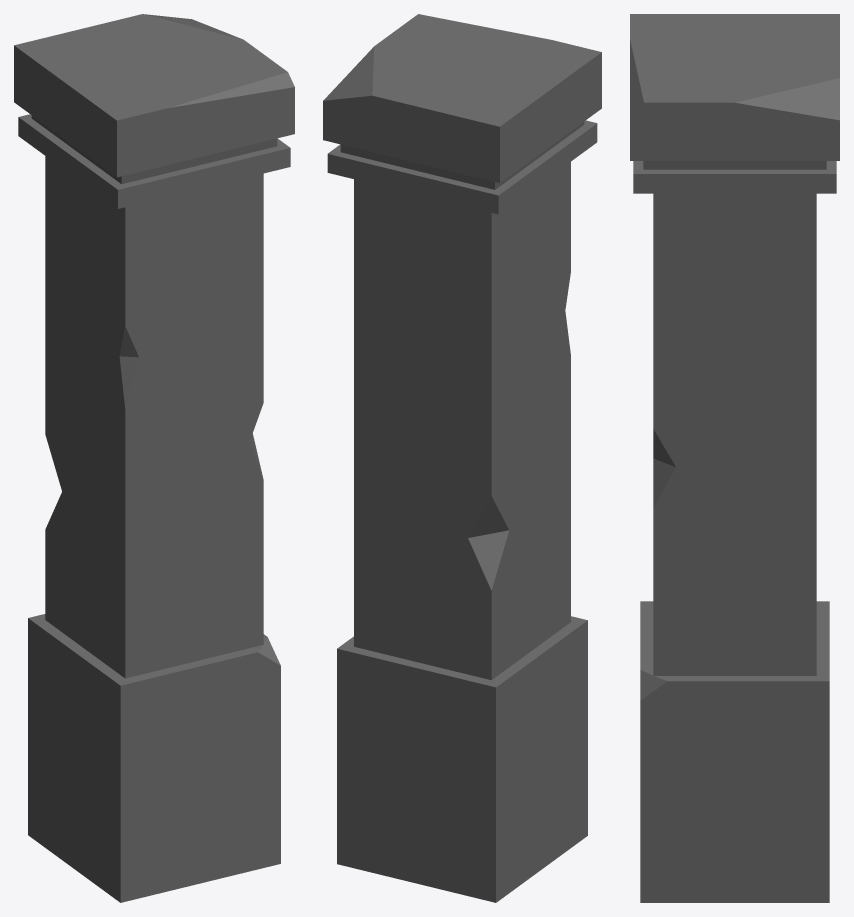
The model's file is BridgePart_01.fbx.
The picture shows the model from 3 angles, left to right: view 1: azimuth 30°, elevation 25°; view 2: azimuth 150°, elevation 25°; view 3: azimuth 270°, elevation 25°; orthographic projection. The views are drawn at different scales.
Visible parts, largest first — view 1: BridgePart_01_LOD0; view 2: BridgePart_01_LOD0; view 3: BridgePart_01_LOD0.
Part boxes in pixels (x1,y1,x2,y2): BridgePart_01_LOD0: (14, 14, 294, 902); BridgePart_01_LOD0: (323, 14, 601, 902); BridgePart_01_LOD0: (630, 14, 839, 902).
Size of what is drawn, in the model's own units: 0.5966 by 2.52 by 0.5966.
